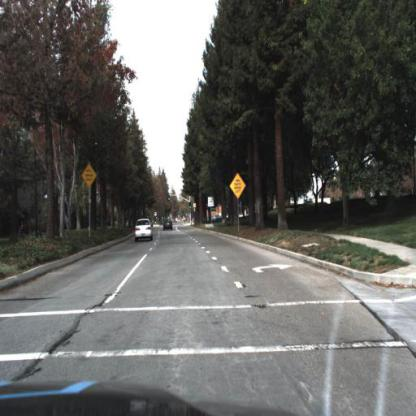car: (132, 216, 154, 243), (163, 217, 175, 233)
